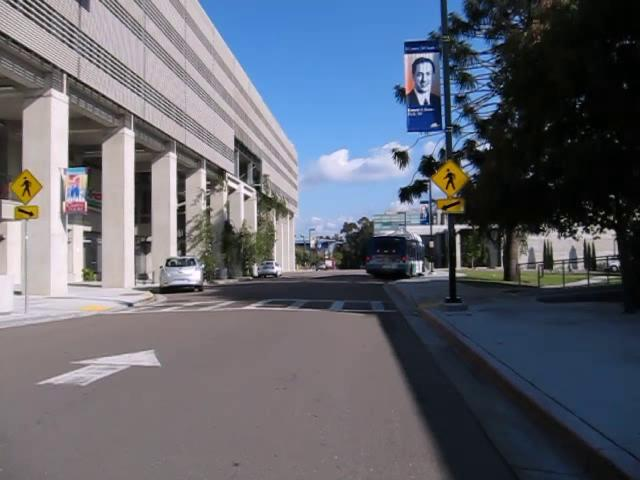pedestrianCrossing: (430, 158, 469, 198), (9, 167, 42, 206)
